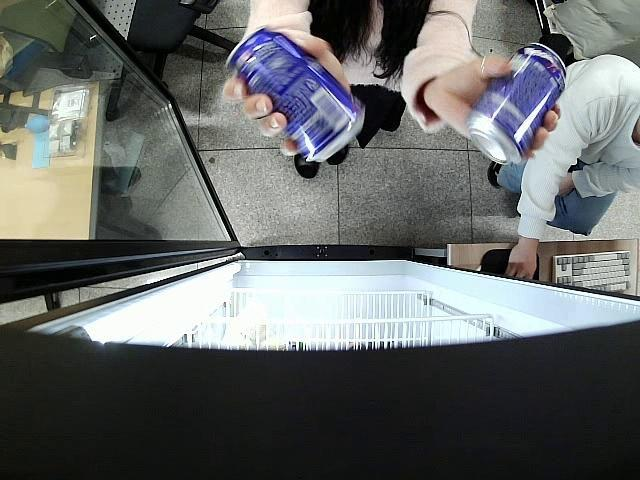14_welchsGrape: (226, 25, 366, 162), (467, 44, 566, 164)
